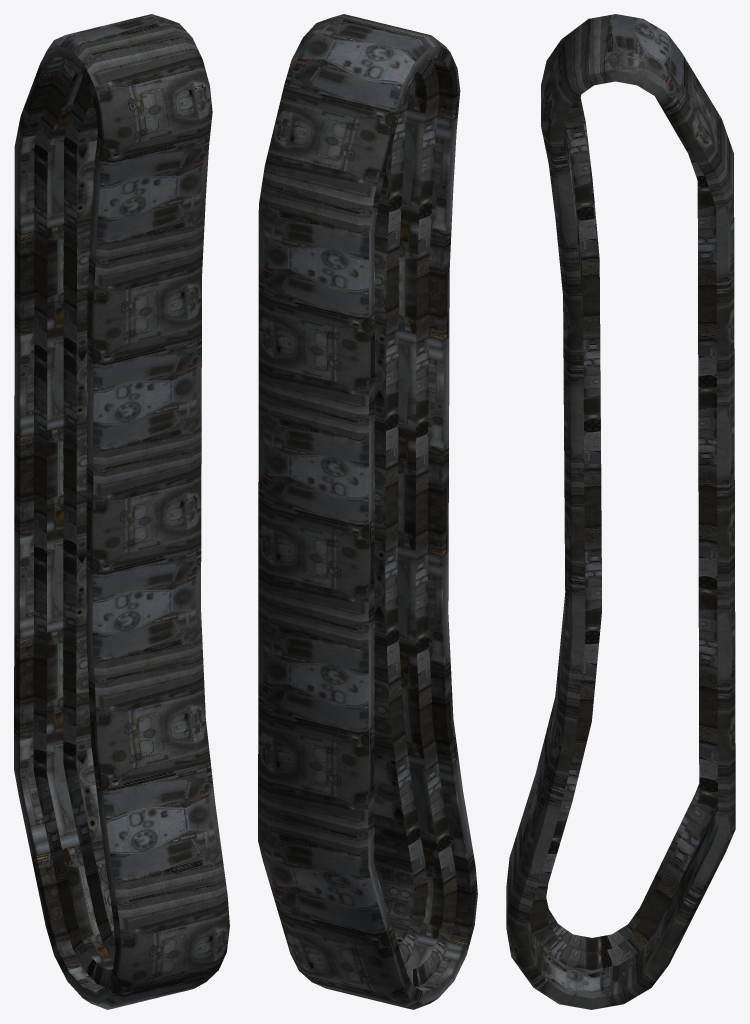
The model's file is TrackR.obj.
3 views of the same model, side by side, from view 1: azimuth 30°, elevation 25°; view 2: azimuth 150°, elevation 25°; view 3: azimuth 270°, elevation 25° (orthographic).
Parts seen in each view (by area): view 1: 3D_Object_1; view 2: 3D_Object_1; view 3: 3D_Object_1.
Part boxes in pixels (left/top/right/bottom): 3D_Object_1: left=14, top=14, right=229, bottom=1009; 3D_Object_1: left=258, top=14, right=477, bottom=1009; 3D_Object_1: left=506, top=14, right=735, bottom=1009.
Bounding box in the file's own units: 0.7887 × 6.61 × 1.44.
